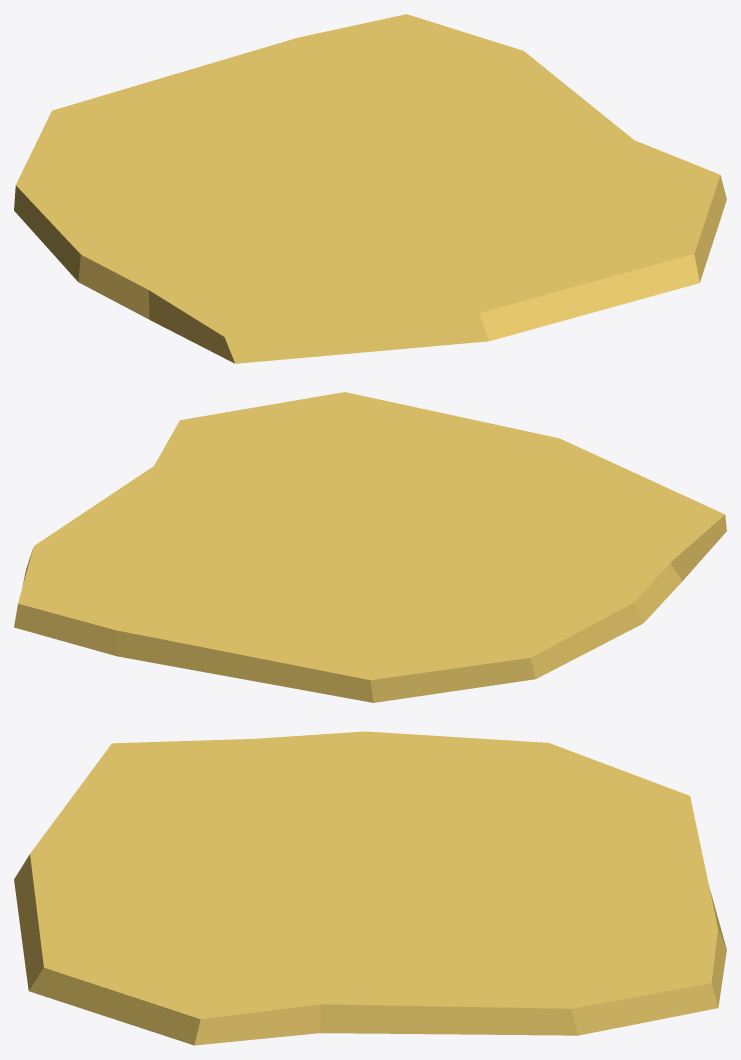
File: Sand_04.fbx
3 renders of one model, top to bottom at view 1: azimuth 30°, elevation 25°; view 2: azimuth 150°, elevation 25°; view 3: azimuth 270°, elevation 25°, orthographic. The views are drawn at different scales.
Visible parts, largest first — view 1: Sand_04; view 2: Sand_04; view 3: Sand_04.
Boxes of the visible parts, x1,y1,x2,y2 form: Sand_04: [14, 14, 726, 363]; Sand_04: [14, 392, 726, 702]; Sand_04: [14, 731, 726, 1045].
Size of the model in its own units: 25.63 by 1 by 26.37.
